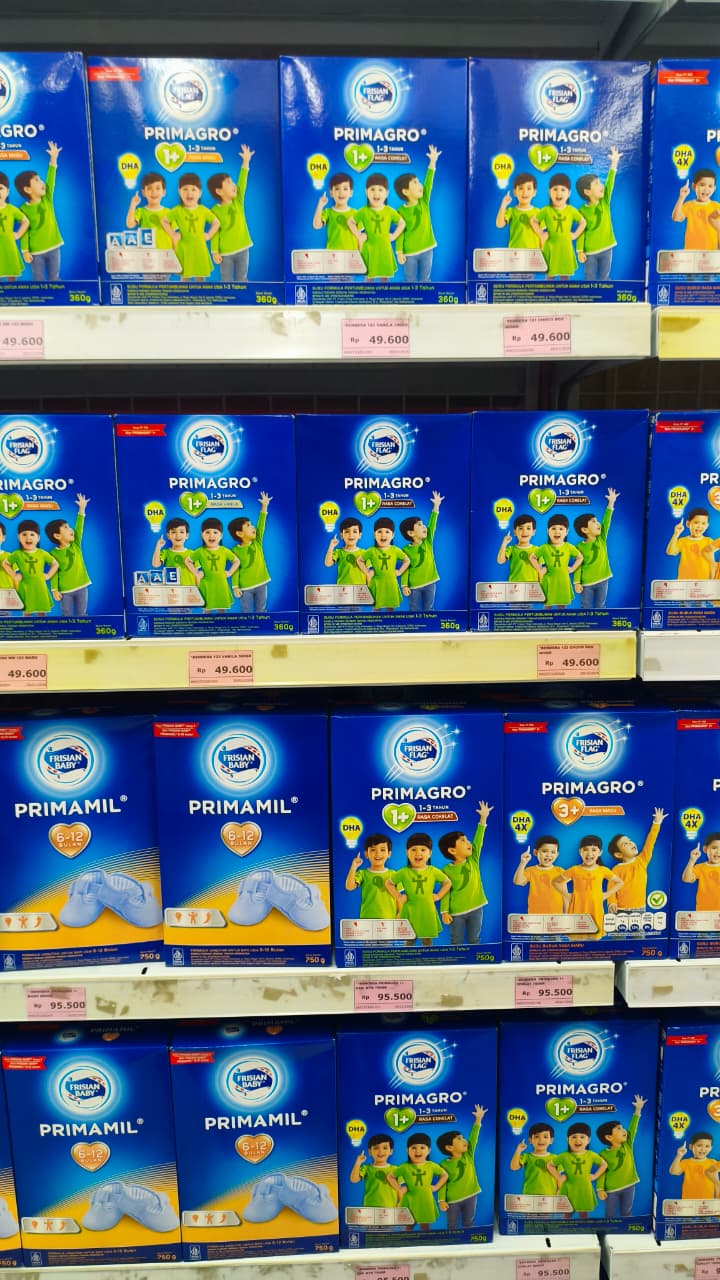Primagro: (298, 101, 458, 293), (509, 1050, 669, 1242), (333, 752, 493, 944), (490, 431, 650, 623), (131, 440, 291, 632)
Primamil: (164, 772, 318, 943), (188, 1073, 342, 1244)
